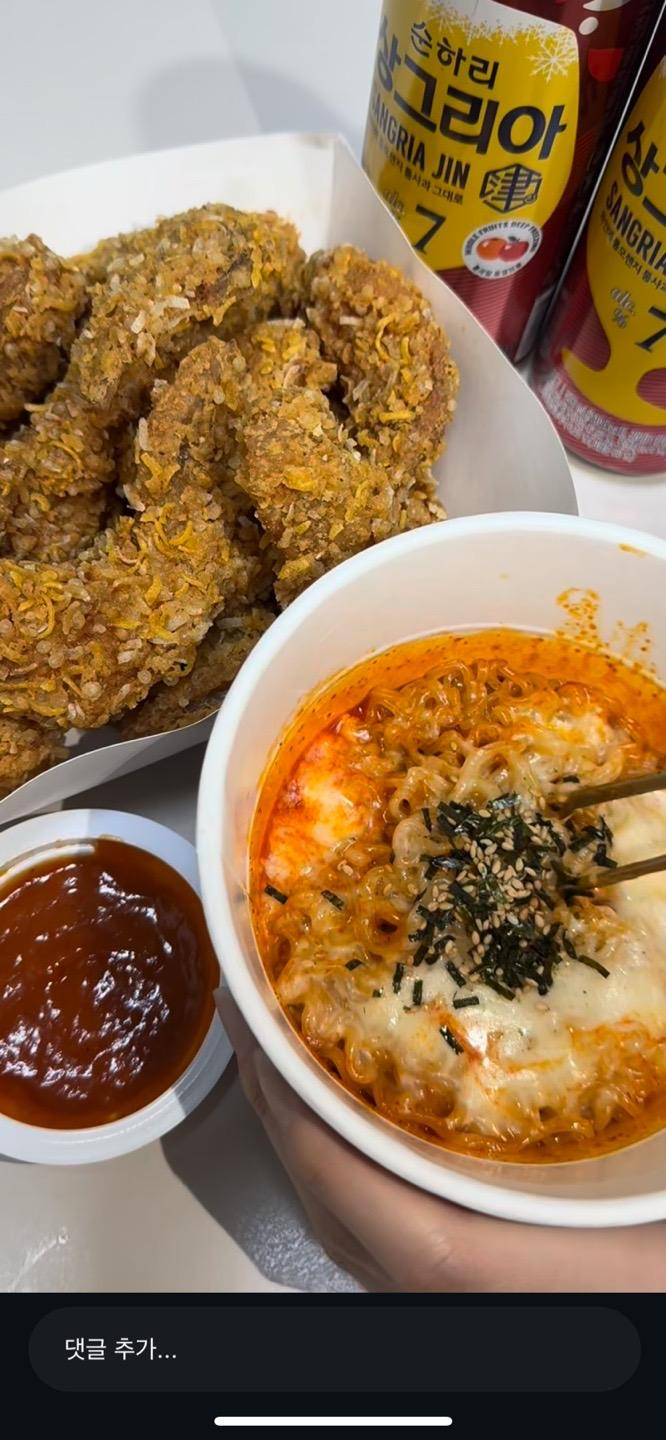Lunch Box: (0, 135, 577, 822), (197, 514, 665, 1228), (0, 810, 230, 1164)
